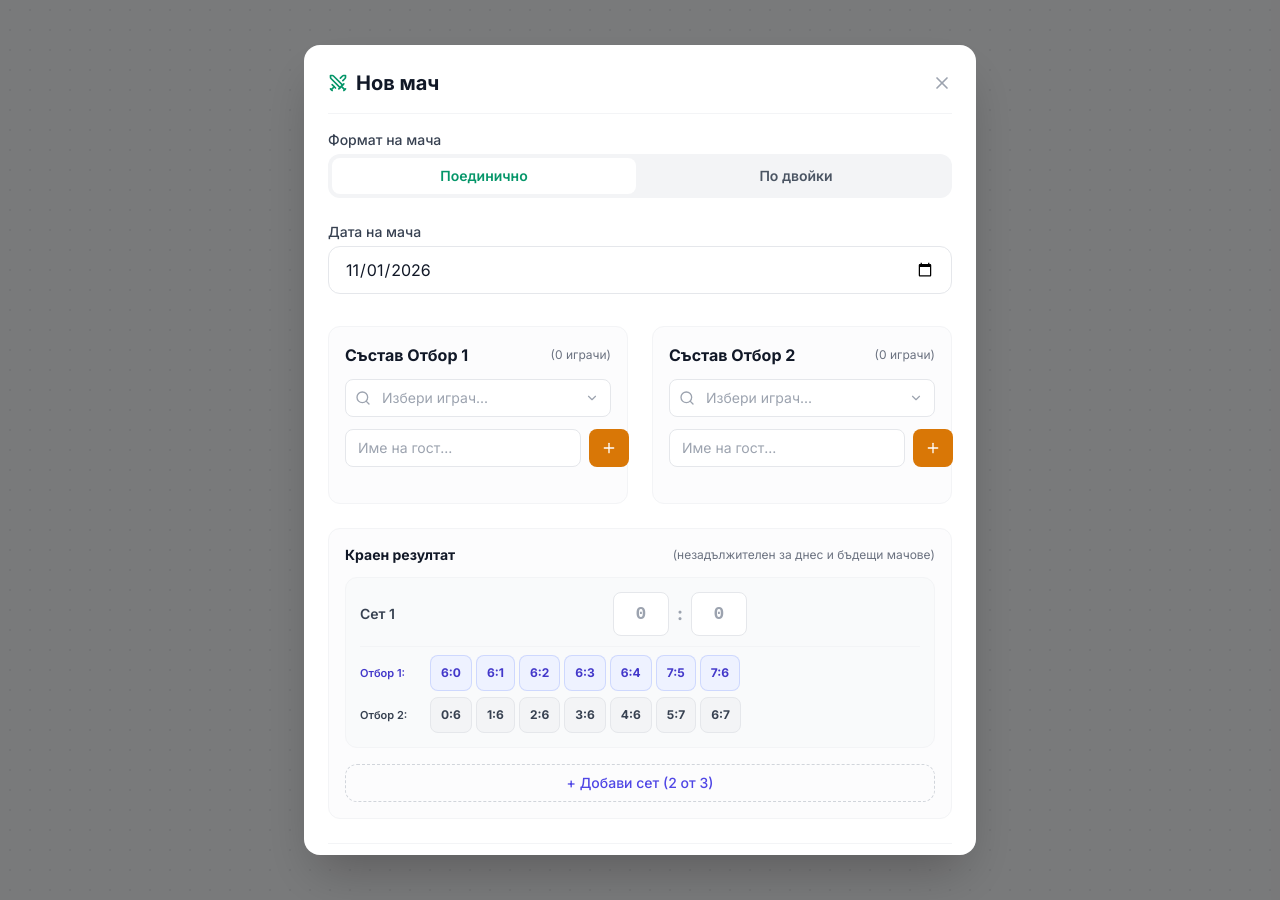
Test case: MatchModal Component › enforces cross-team selection exclusion in player comboboxes
The image size is (1280, 900).
// Add Христо Стоичков to Team 1
Step 1. Click the dropdown named "Избери играч за Отбор 1" → click(478, 398), box [345,379,611,417]
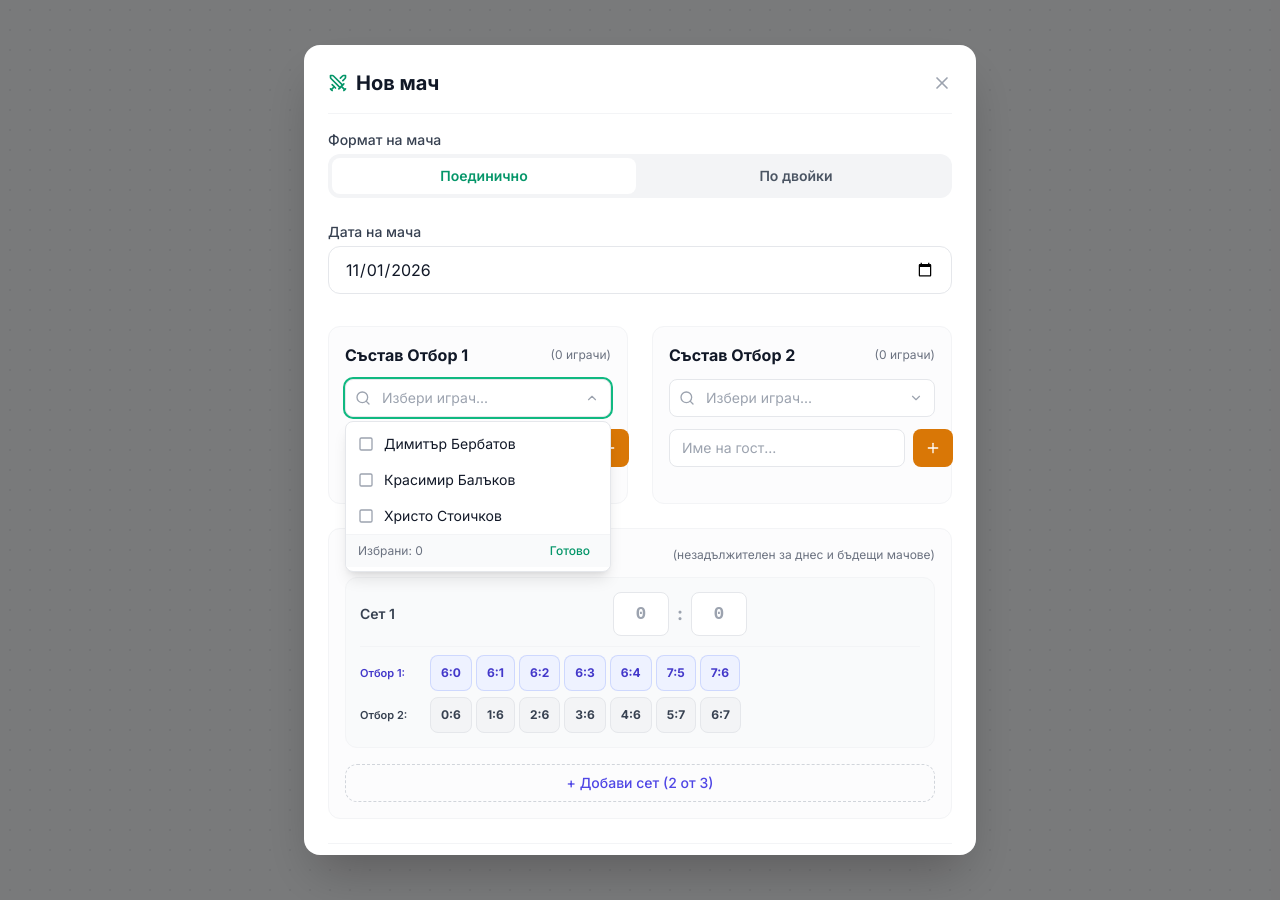
Step 2. Click the option "Христо Стоичков" → click(478, 516), box [346,498,610,534]
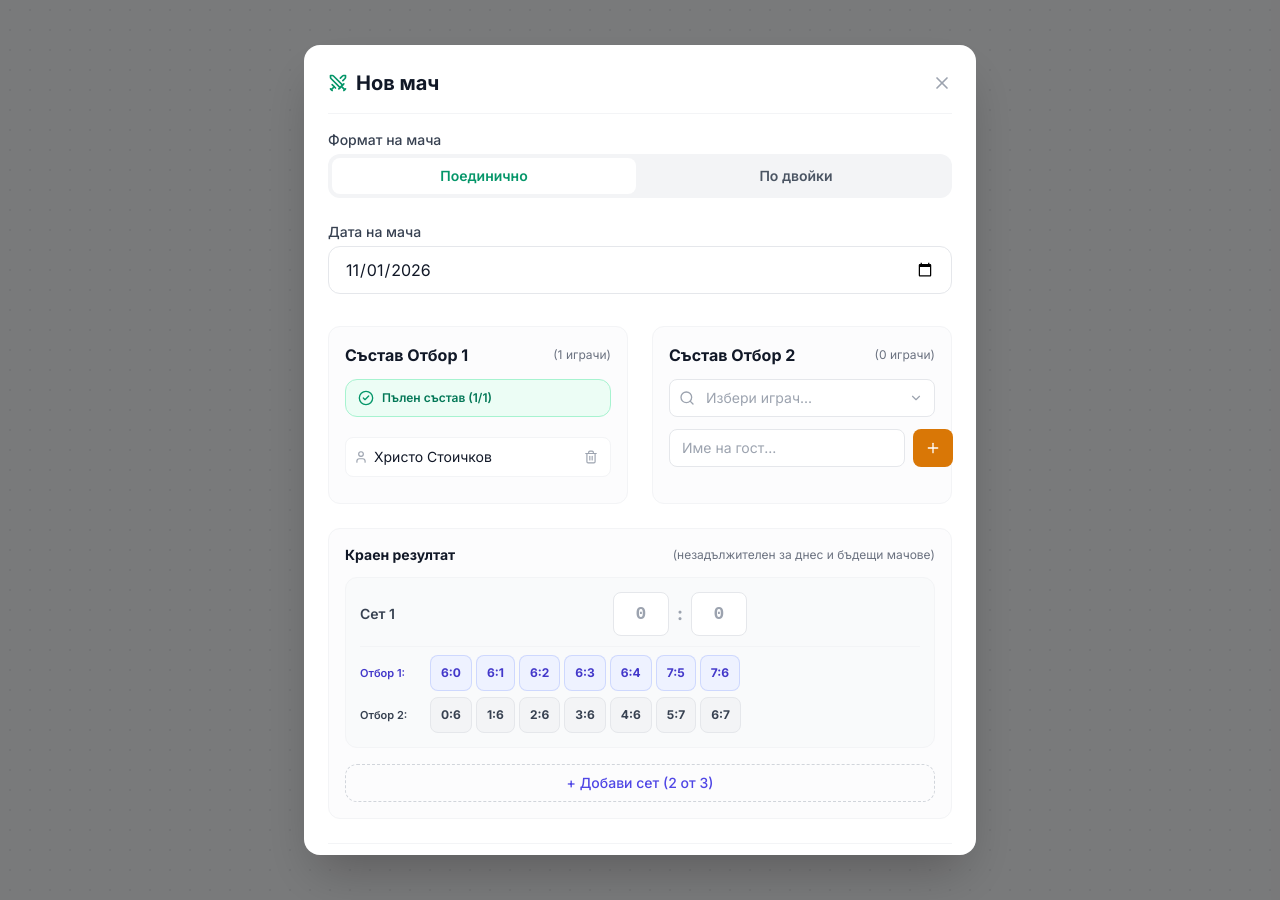
// Now open Team 2 combobox
Step 3. Click the dropdown named "Избери играч за Отбор 2" → click(802, 398), box [669,379,935,417]
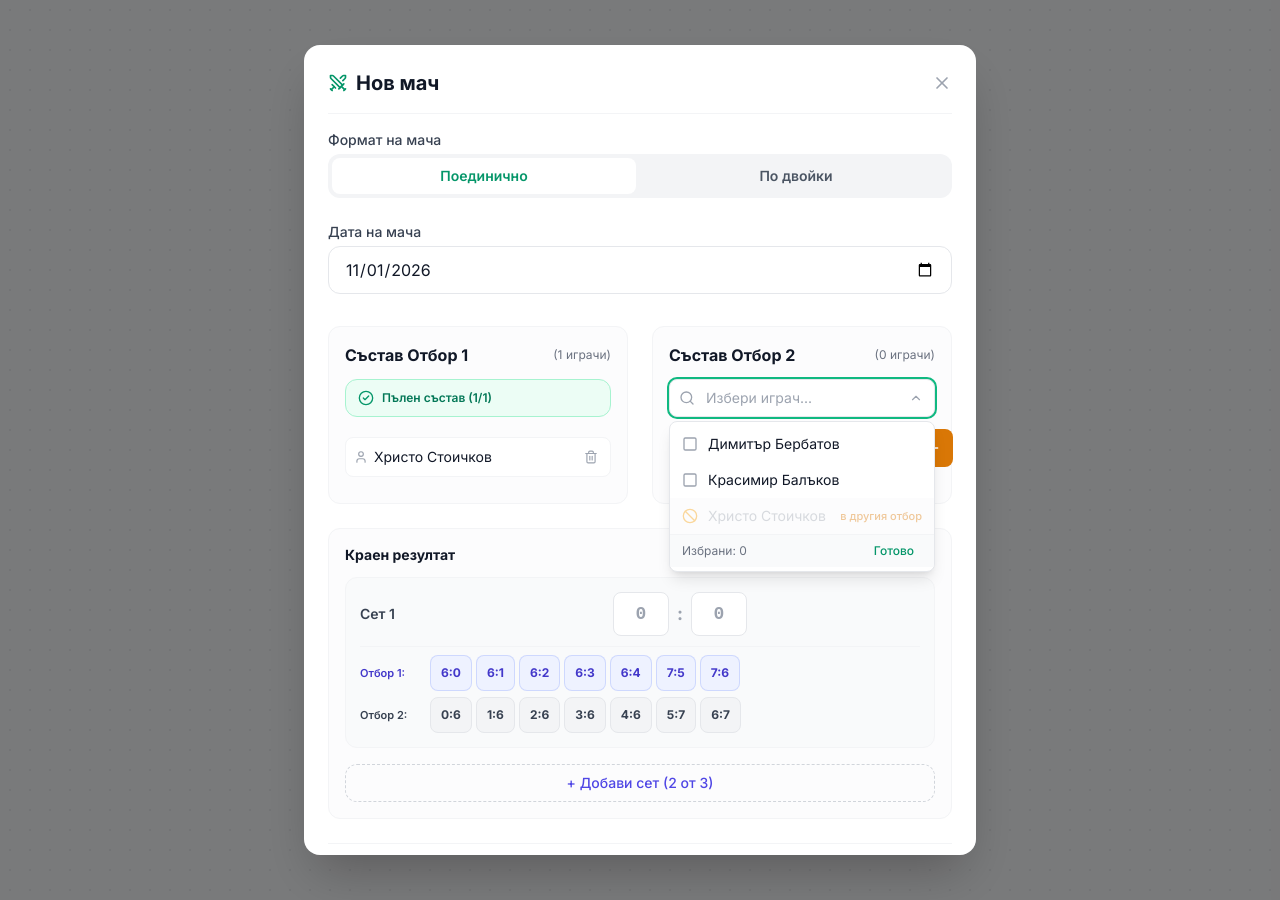
Expected: the option "Христо Стоичков в другия отбор" is disabled, [670,498,934,534]
Expected: the option "Христо Стоичков в другия отбор" is shown, [670,498,934,534]
